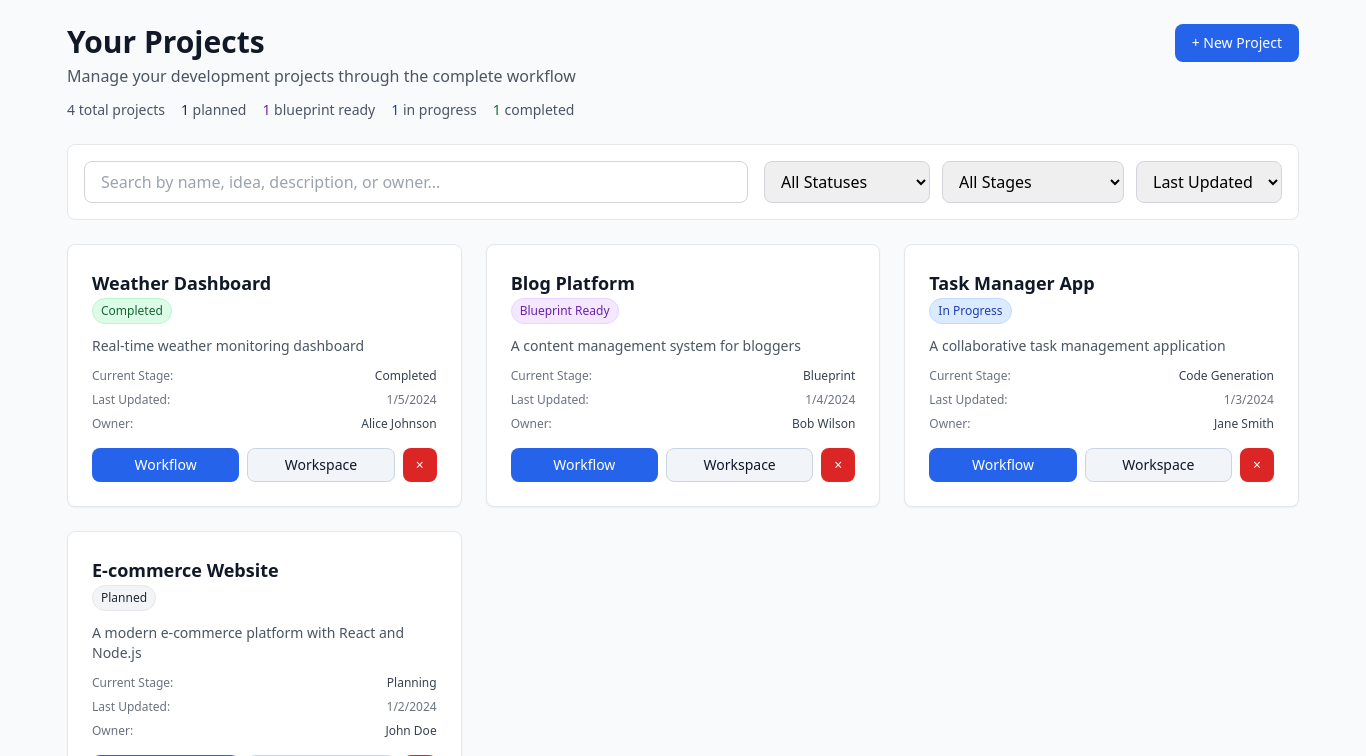
Scenario: DashboardPage › Project Filtering and Search Functionality › filters projects by search query - name
In the field with placeholder "Search by name, idea, description, or owner...": (416, 182) [84, 161, 748, 203], type "E-commerce"
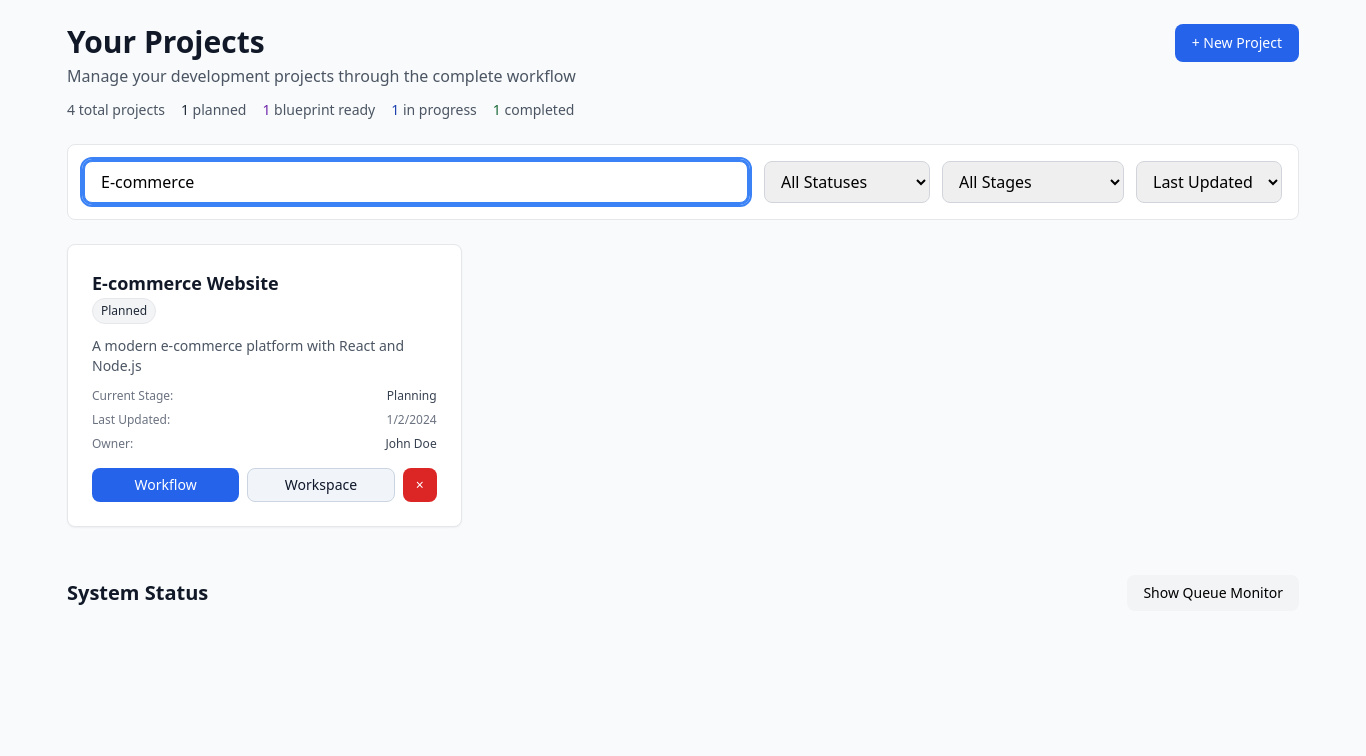
Expected: the heading "Task Manager App" is gone
Expected: the heading "Blog Platform" is gone
Expected: the heading "Weather Dashboard" is gone
